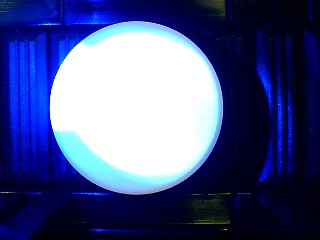BLANK: (48, 21, 224, 196)
